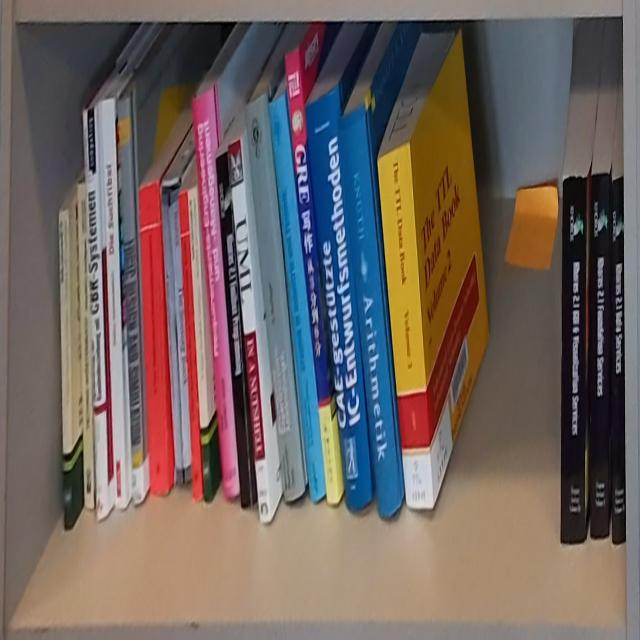Book Spine: (306, 89, 373, 513), (340, 107, 403, 519), (247, 93, 307, 505), (284, 51, 338, 506), (269, 95, 327, 503), (377, 141, 435, 508), (192, 91, 239, 502), (229, 136, 271, 527), (216, 153, 258, 512), (117, 96, 144, 509), (99, 97, 124, 511), (83, 108, 108, 519), (560, 176, 587, 545), (162, 179, 191, 486), (141, 180, 169, 495), (179, 189, 203, 504), (590, 174, 610, 541), (189, 185, 211, 505), (612, 176, 627, 547), (78, 183, 93, 508), (59, 209, 72, 531)
